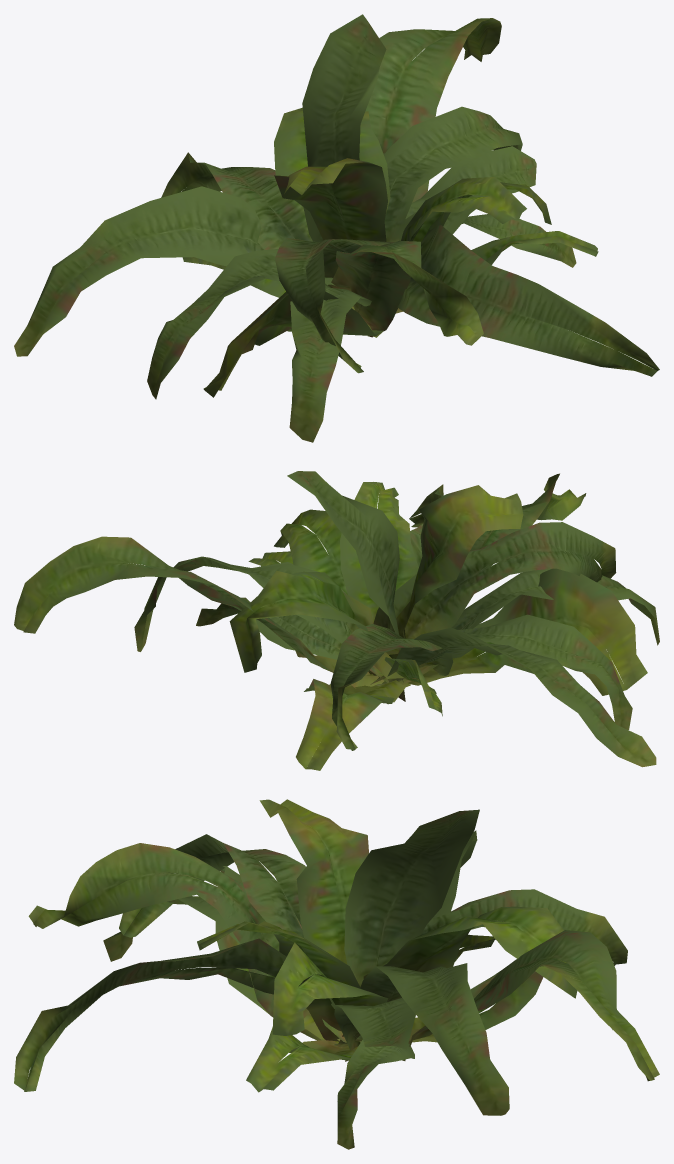
File: plante_fougere.glb
The picture shows the model from 3 angles, top to bottom: view 1: azimuth 30°, elevation 25°; view 2: azimuth 150°, elevation 25°; view 3: azimuth 270°, elevation 25°; orthographic projection. The views are drawn at different scales.
Visible parts, largest first — view 1: fern_02_b; view 2: fern_02_b; view 3: fern_02_b.
Boxes of the visible parts, <box> form: fern_02_b: <box>14,14,659,442</box>; fern_02_b: <box>14,471,659,770</box>; fern_02_b: <box>14,799,659,1149</box>.
Size of the model in its own units: 0.9903 by 0.4261 by 0.895.
Materials: 1 (1 with a texture image).
